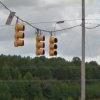Traffic light: (11, 10, 64, 65)
